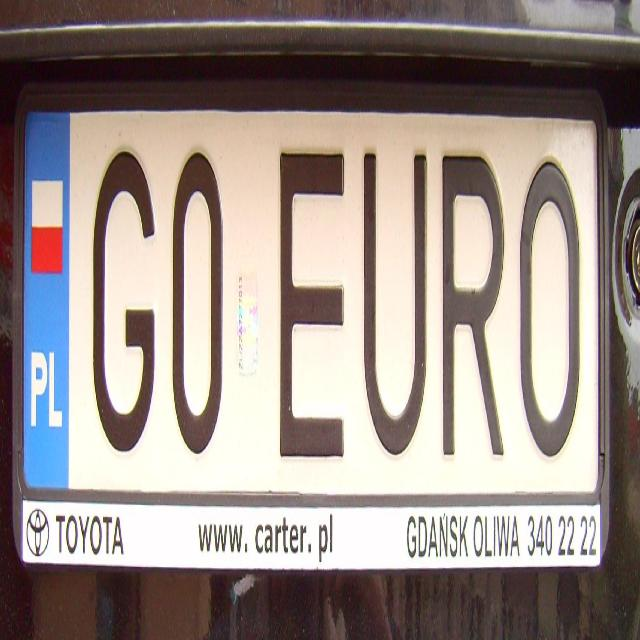pl_license_plate: (21, 106, 603, 491)
